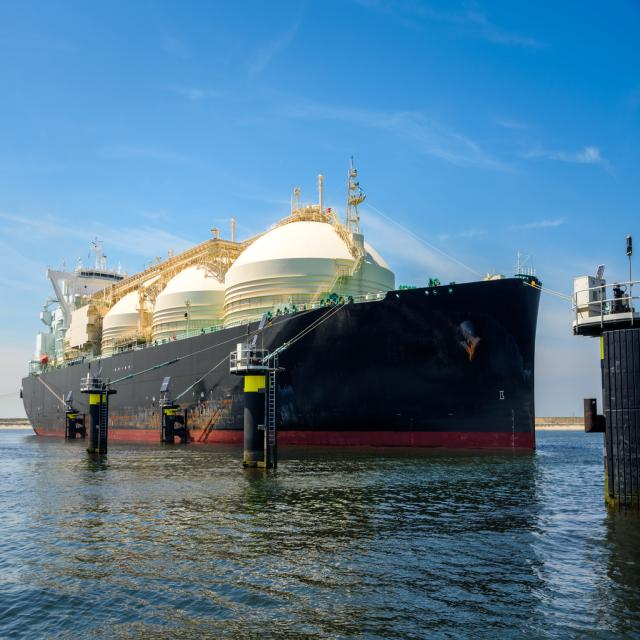boat: (9, 153, 552, 484)
